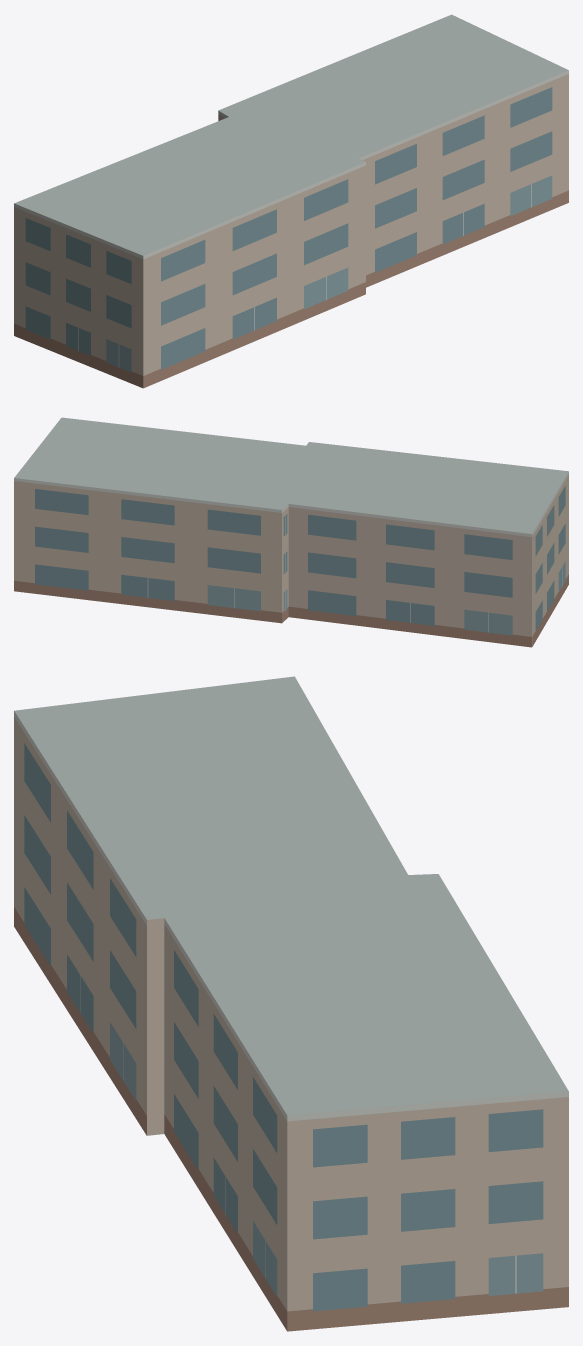
File: survey-upis-32617179.glb
The picture shows the model from 3 angles, top to bottom: view 1: azimuth 30°, elevation 25°; view 2: azimuth 150°, elevation 25°; view 3: azimuth 270°, elevation 25°; orthographic projection. The views are drawn at different scales.
Parts seen in each view (by area): view 1: survey-upis-32617179.tmp; view 2: survey-upis-32617179.tmp; view 3: survey-upis-32617179.tmp.
Boxes of the visible parts, x1,y1,x2,y2 form: survey-upis-32617179.tmp: (14,14,568,388); survey-upis-32617179.tmp: (14,417,568,647); survey-upis-32617179.tmp: (14,676,568,1331).
Size of the model in its own units: 39.94 by 9.15 by 21.32.
